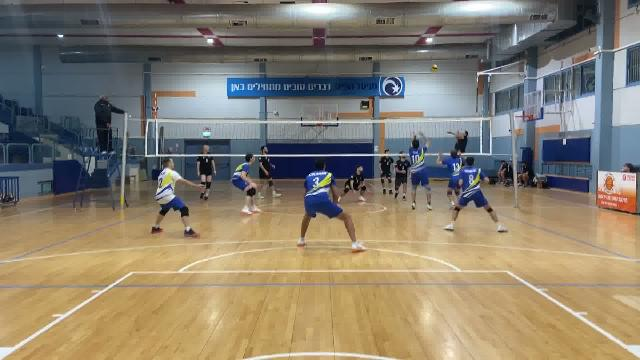ball: (431, 63, 438, 72)
